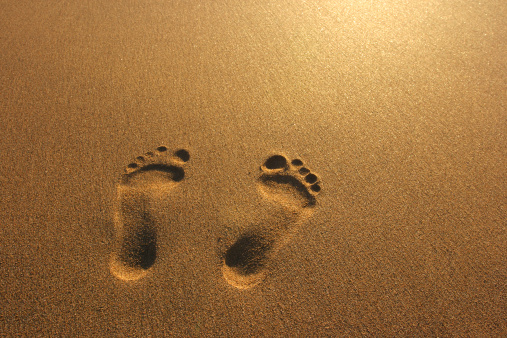human_foot_print: (220, 140, 326, 300), (102, 134, 196, 288)
